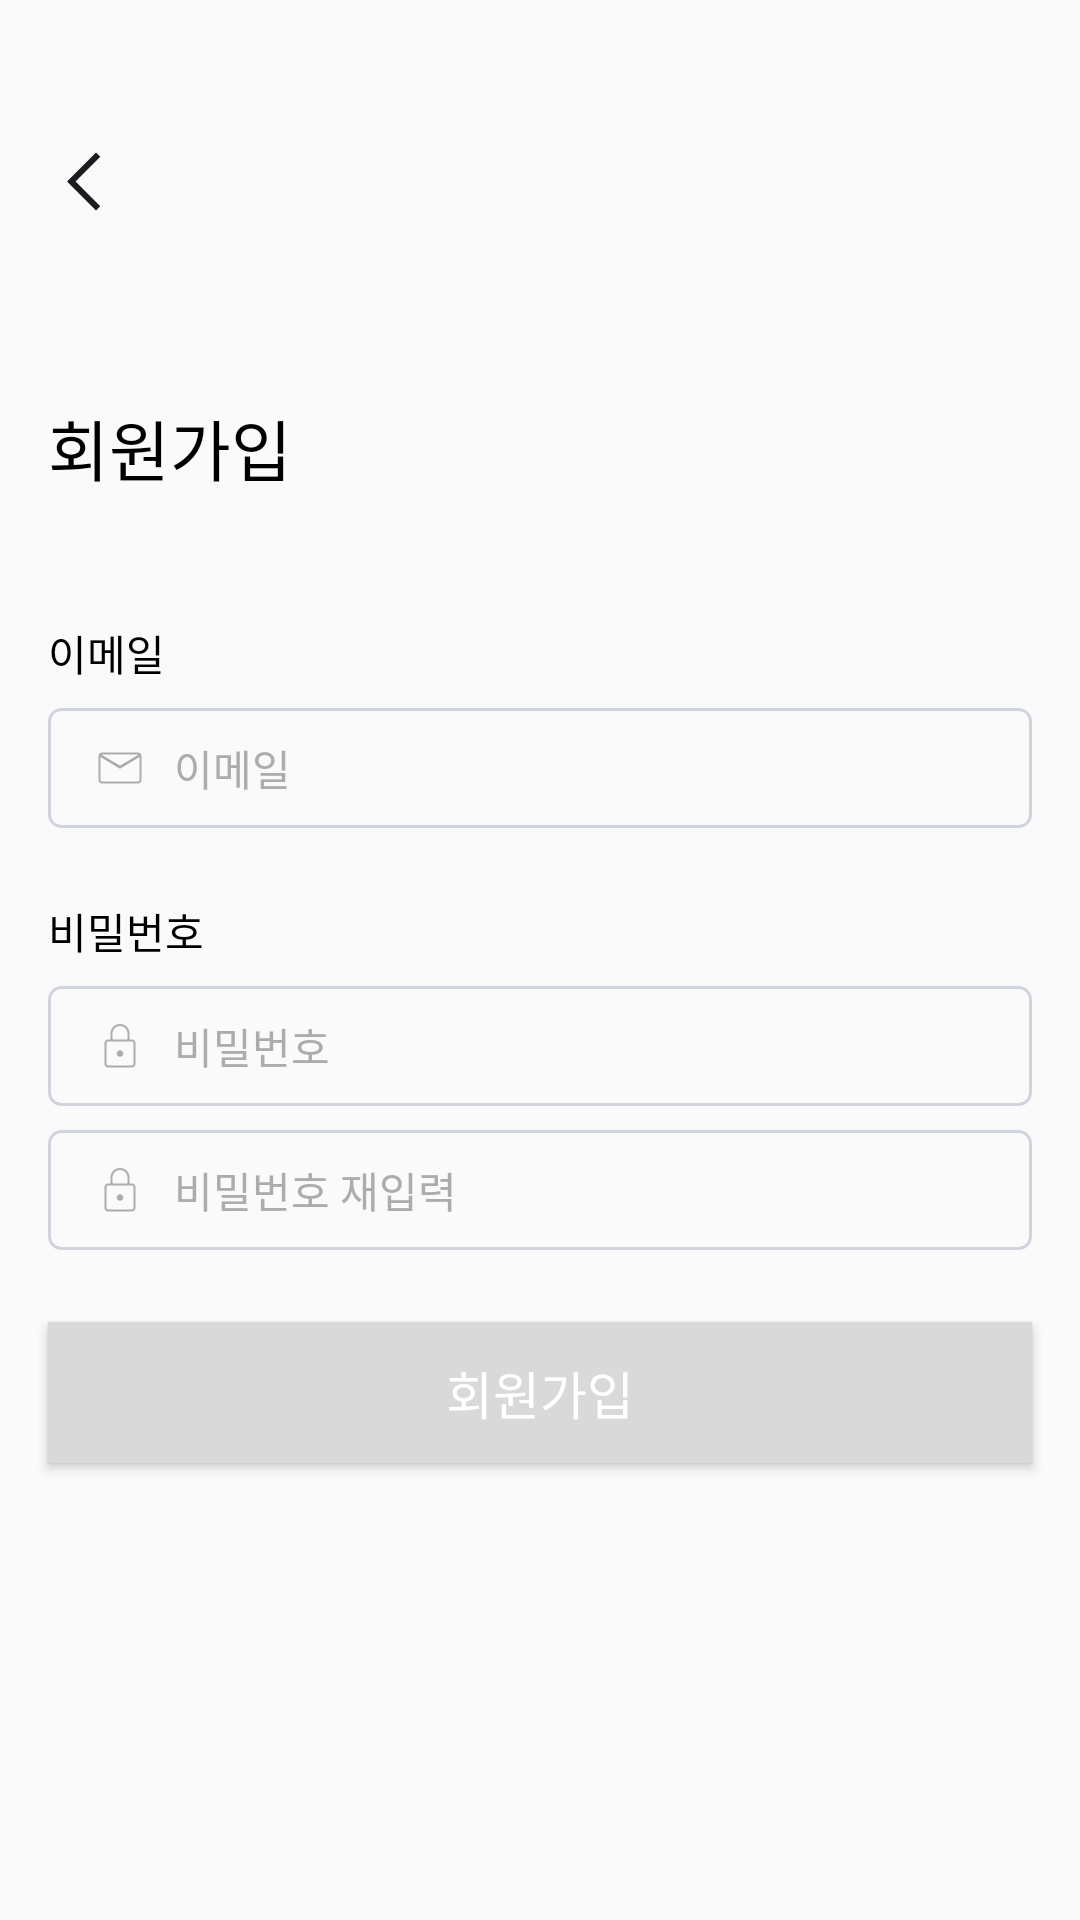

Icon click points for this 1080 x 1920 phone screenshot, format (x,y):
arrow back: (83,181)
